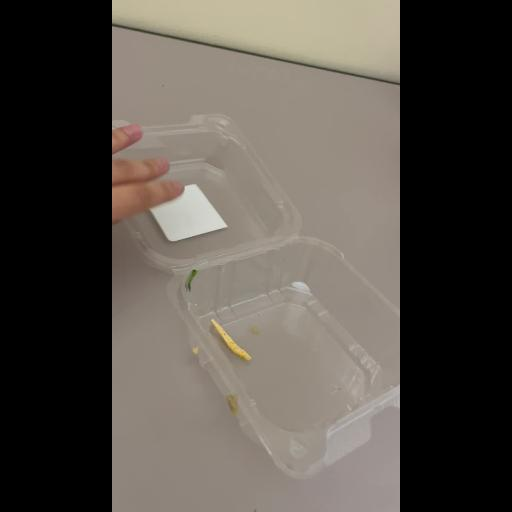small_plastic_container: (112, 109, 400, 483)
